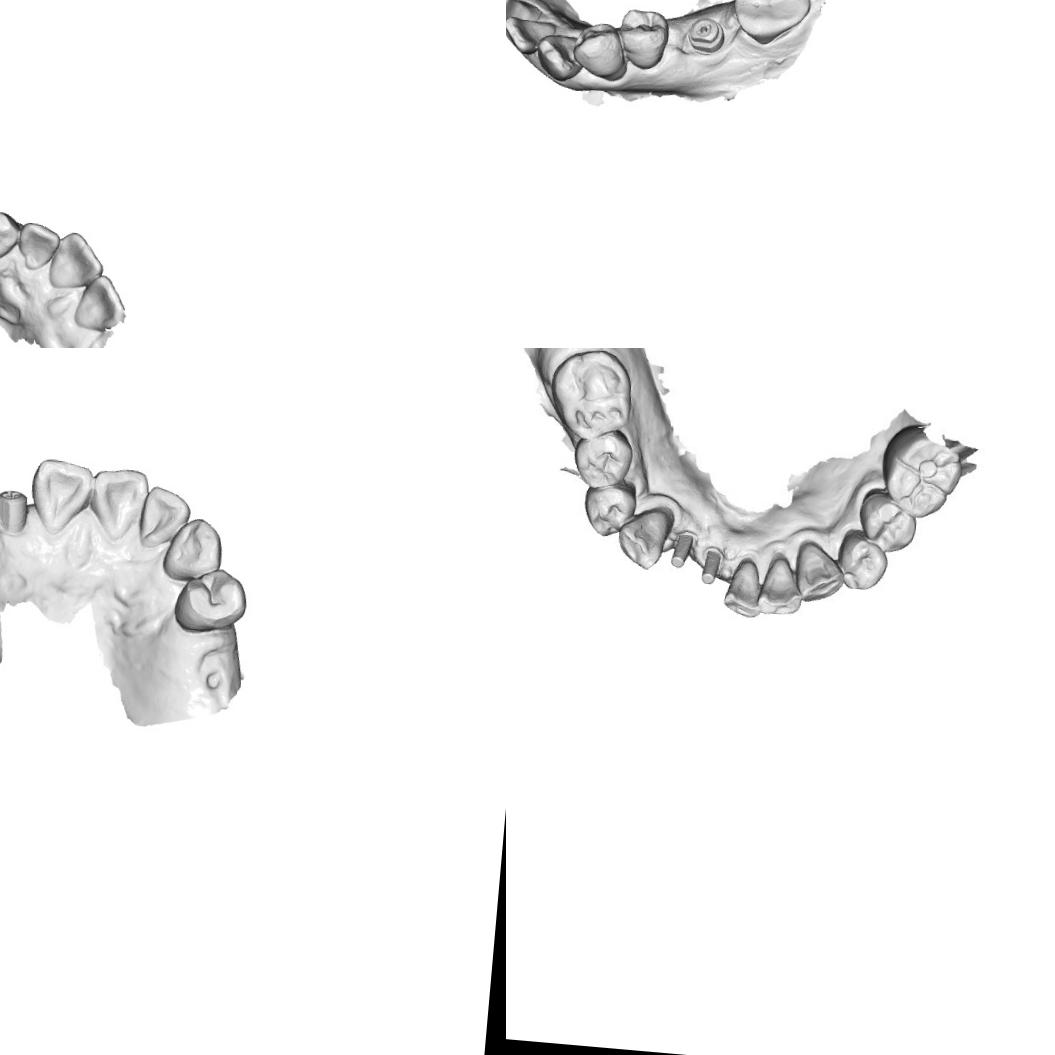abutment: (696, 542, 725, 591), (666, 526, 696, 572)
canine: (160, 514, 227, 582), (612, 502, 672, 569), (790, 540, 849, 607), (532, 29, 582, 84), (0, 205, 20, 264)
implant: (0, 487, 29, 532)
implant_minus: (685, 13, 727, 54)
incisor: (27, 456, 95, 534), (85, 464, 150, 538), (46, 228, 108, 292), (134, 484, 193, 548), (70, 270, 128, 332), (759, 551, 805, 621), (722, 554, 762, 622), (14, 219, 63, 274), (506, 13, 558, 58), (506, 0, 546, 33)
molar: (874, 422, 968, 521), (543, 348, 638, 443), (728, 0, 814, 48)
premolar: (171, 562, 249, 638), (572, 426, 636, 493), (854, 488, 919, 553), (613, 5, 672, 73), (578, 480, 642, 542), (832, 529, 886, 596), (568, 19, 628, 79)
